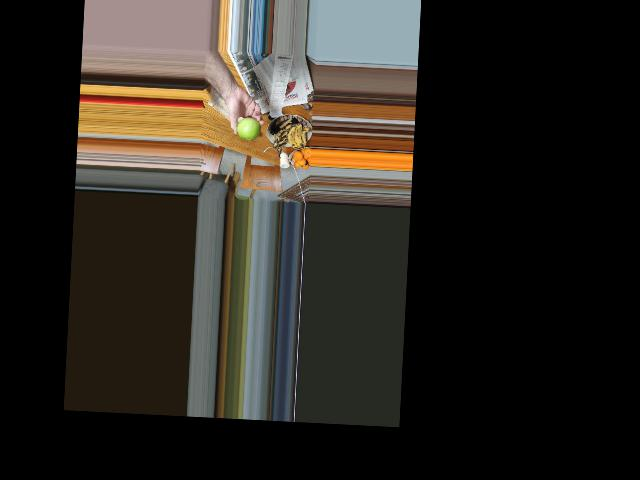apple: (236, 116, 261, 142)
